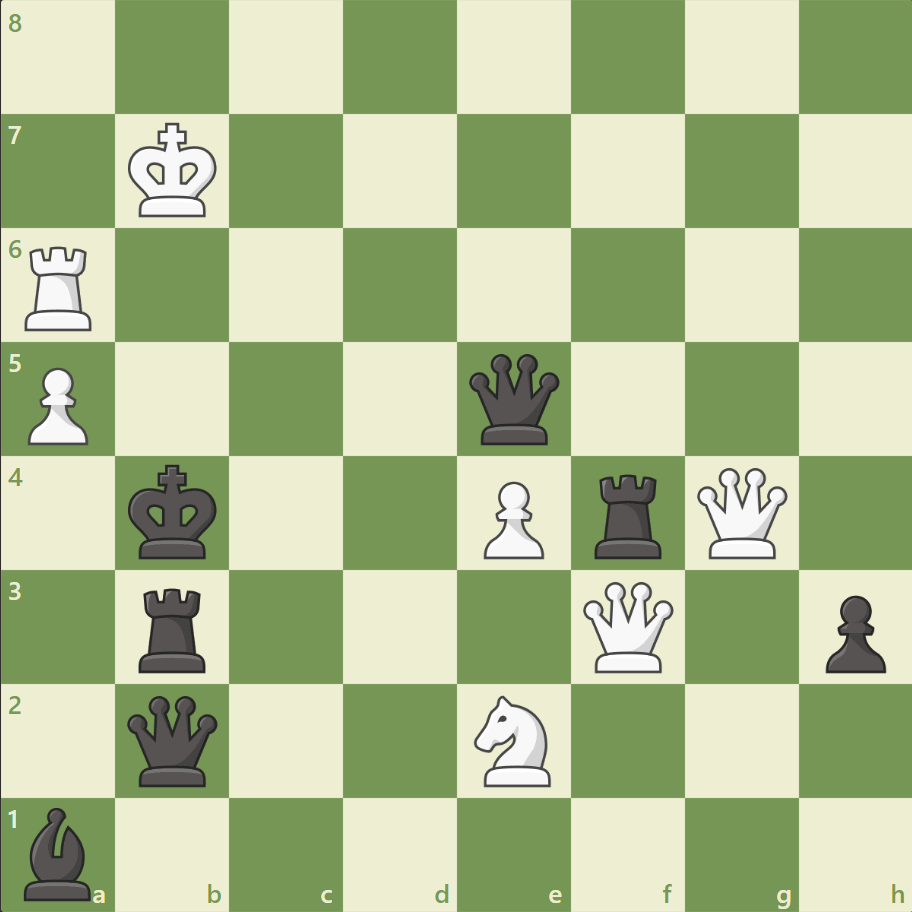K: (124, 117, 224, 225)
N: (465, 688, 562, 791)
P: (20, 359, 95, 450), (474, 473, 549, 564)
Q: (578, 576, 677, 676), (691, 463, 790, 562)
R: (19, 239, 102, 336)
b: (17, 801, 101, 904)
k: (124, 458, 224, 566)
p: (815, 586, 889, 677)
q: (464, 349, 563, 449), (124, 690, 223, 789)
r: (587, 466, 670, 563), (133, 579, 215, 676)
